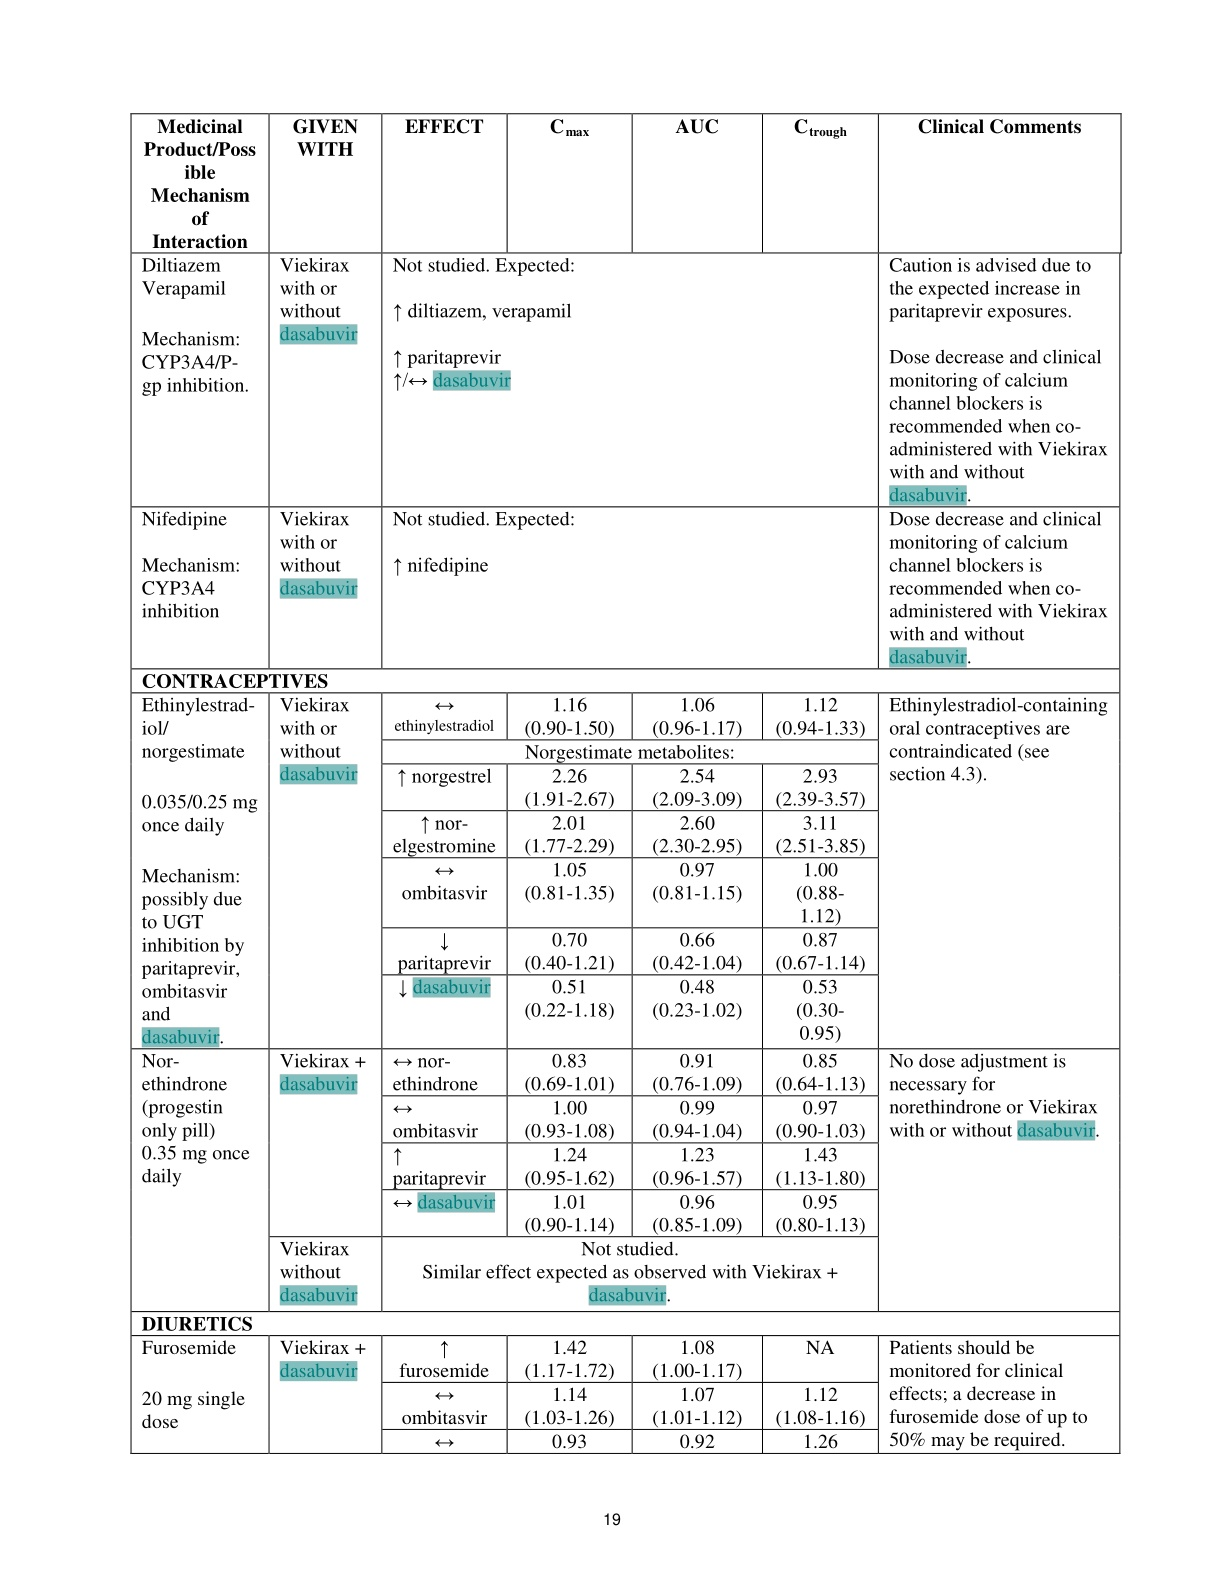merged_cells: (129, 113, 1121, 1455)
